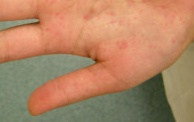SJS-TEN: (37, 0, 194, 60)
